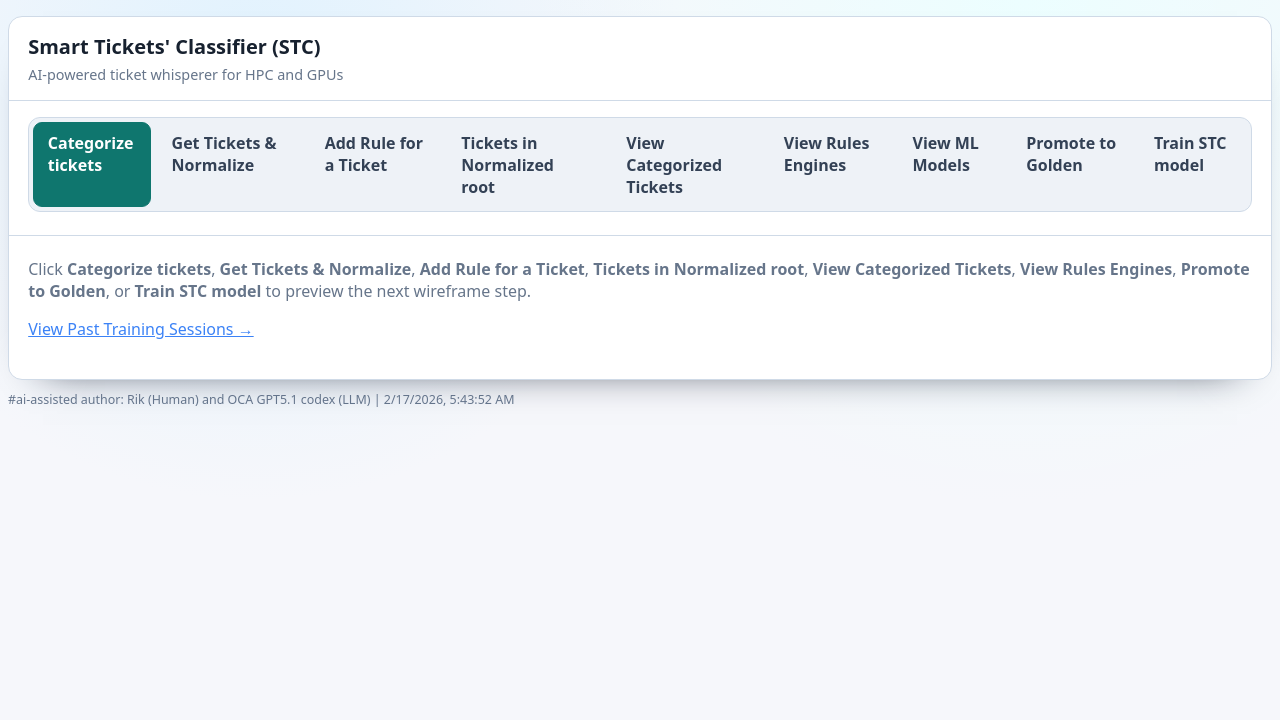
STC wireframe flow › shows empty-directory message when normalized root has no tickets
The image size is (1280, 720).
Click the link "Tickets in Normalized root": (508, 165) x1=461 y1=132 x2=554 y2=198
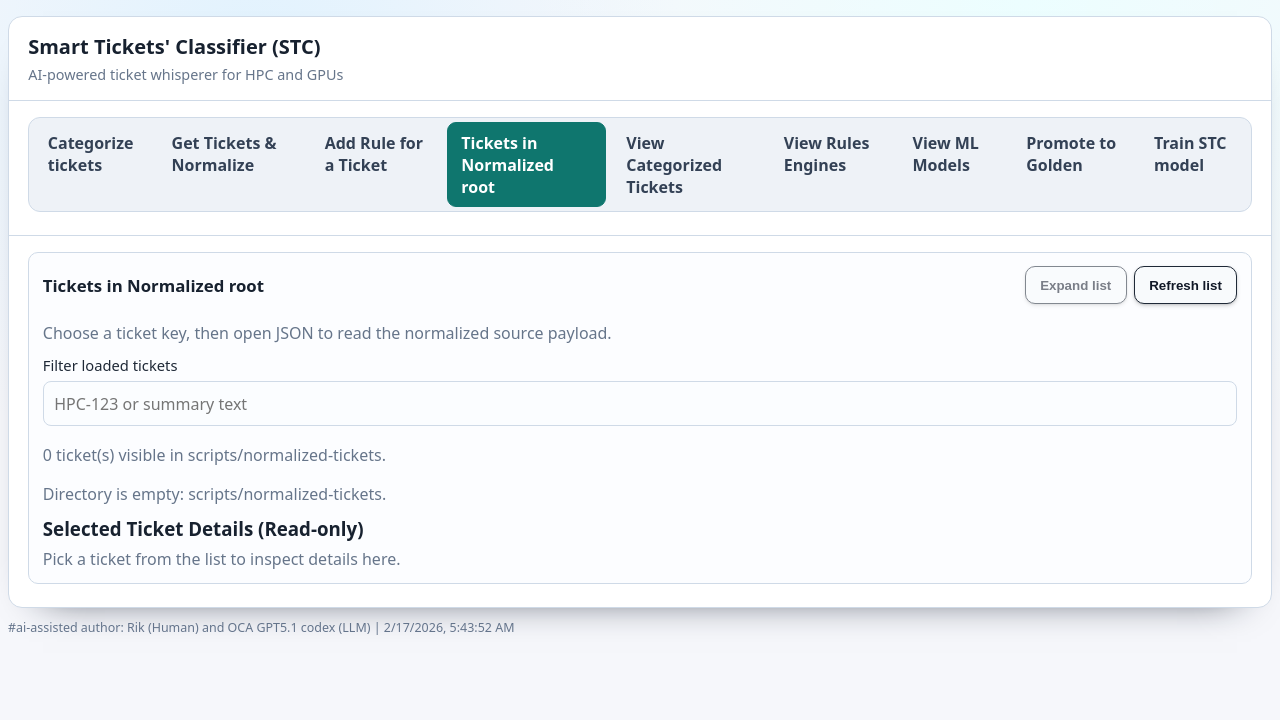
Expected: the text "Directory is empty: scripts/normalized-tickets." is shown, x1=43 y1=483 x2=386 y2=505
